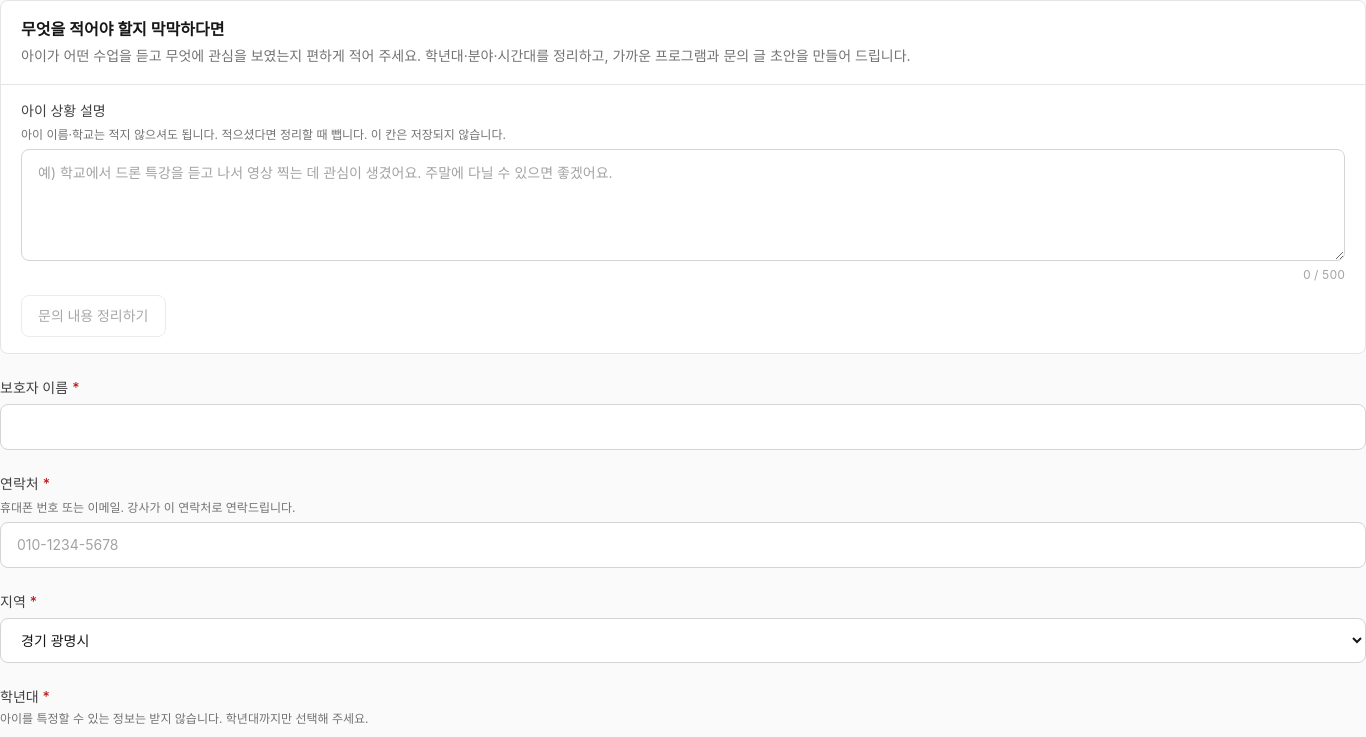
Test case: 보호자 문의 도우미 › 자기 API 라우트만 부르고, 폼의 지역·학년대·분야를 함께 보낸다
The image size is (1366, 737).
In the text box labelled "아이 상황 설명": (683, 205) [21,149,1345,261], type "중학생 아들이 드론 특강 듣고 영상 찍는 데 푹 빠졌어요"
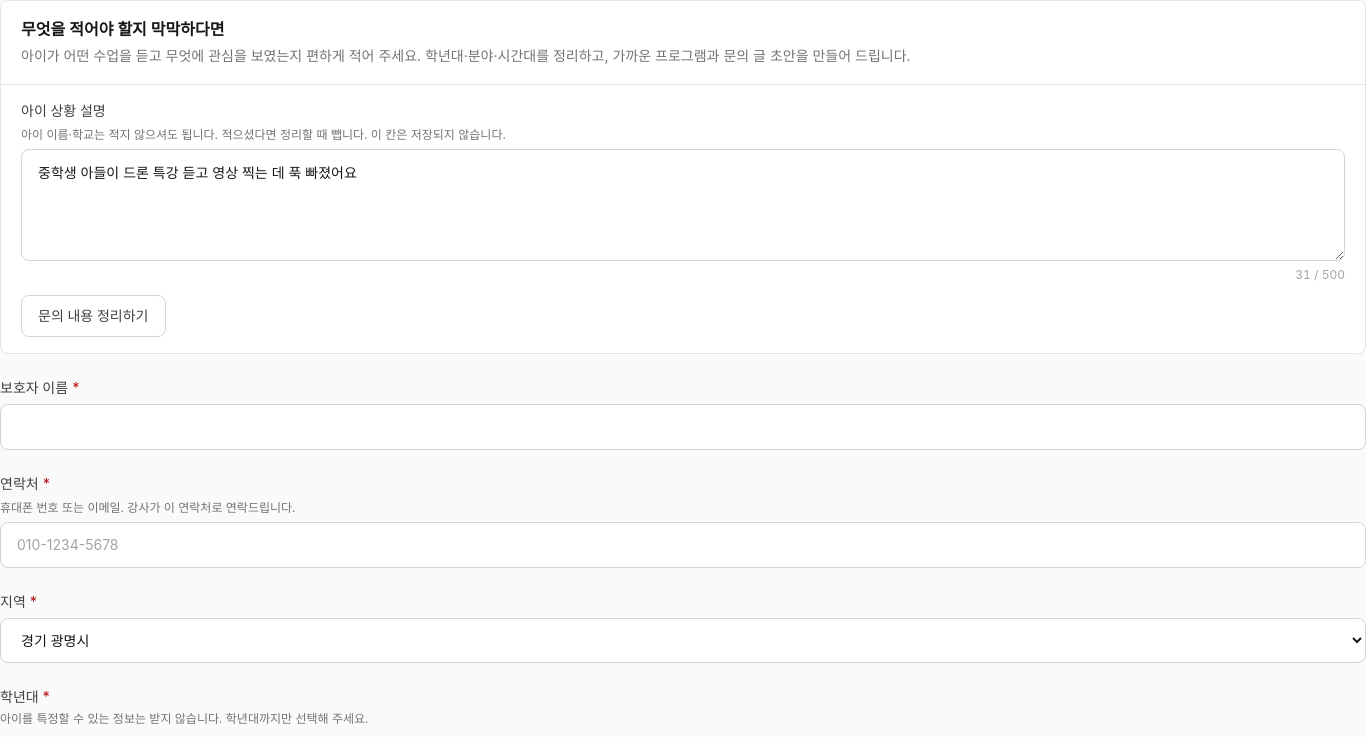
Click the button "문의 내용 정리하기": (93, 316) [21,295,166,337]
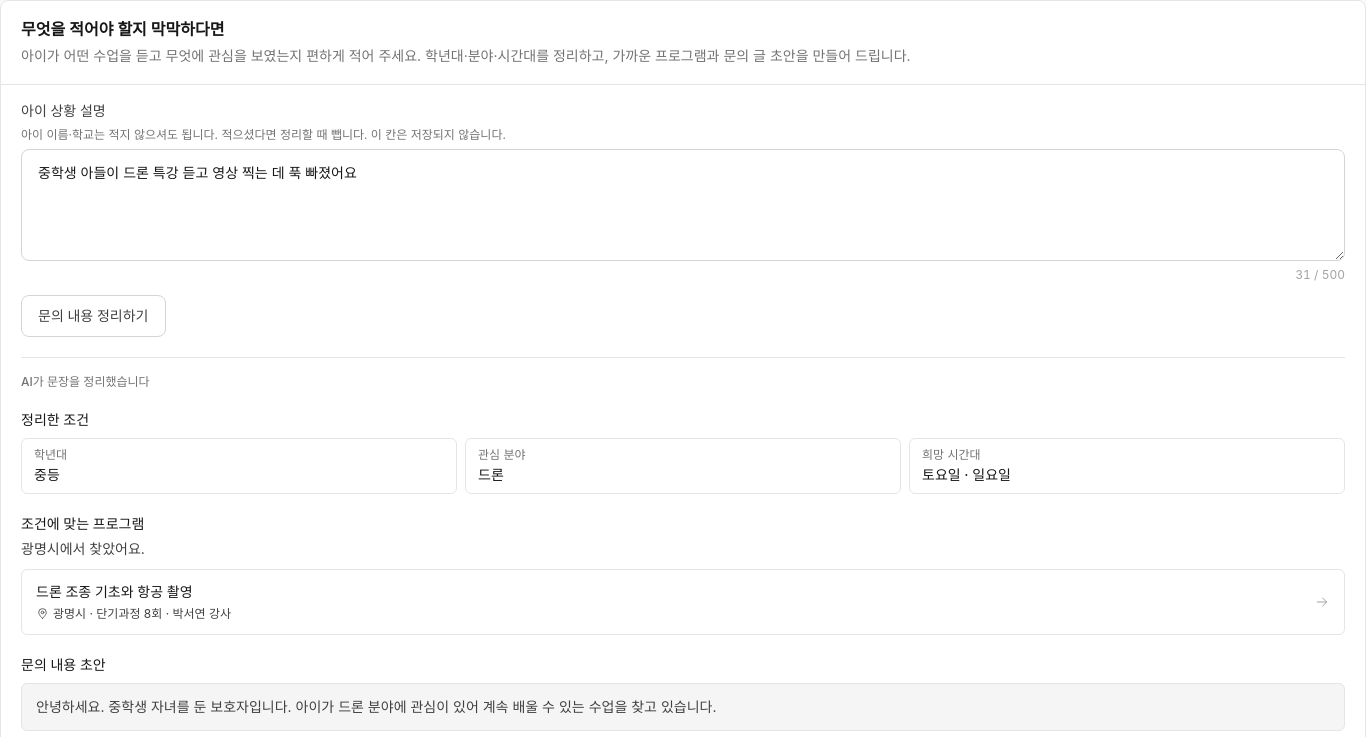
Now the text "안녕하세요. 중학생 자녀를 둔 보호자입니다. 아이가 드론 분야에 관심이 있어 계속 배울 수 있는 수업을 찾고 있습니다." is shown, box [21,682,1345,731]
